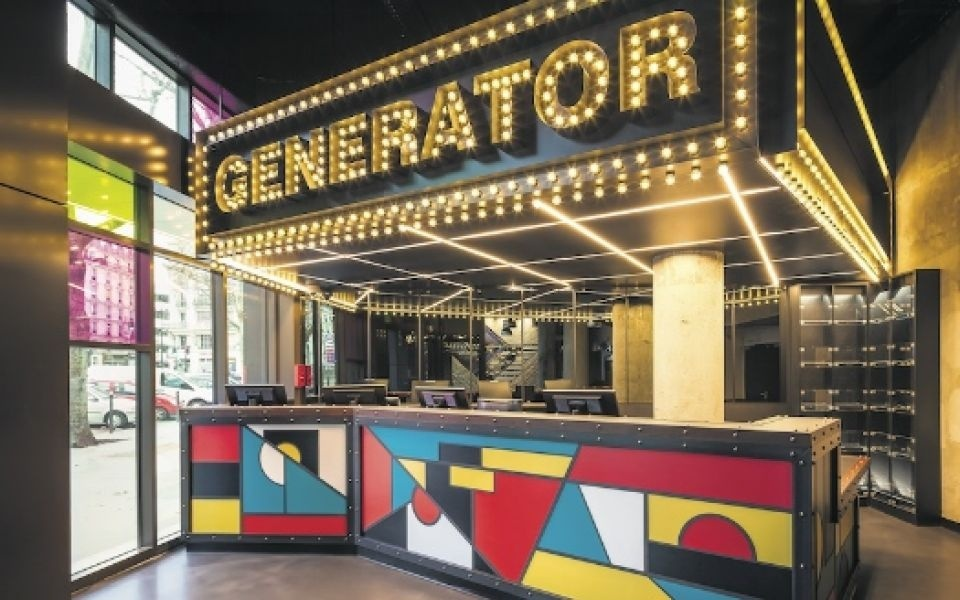text: (225, 4, 240, 220), (241, 4, 256, 220), (257, 4, 272, 220), (273, 4, 288, 220), (289, 4, 304, 220), (305, 4, 320, 220), (321, 4, 336, 220), (337, 4, 352, 220), (353, 4, 368, 220), (369, 4, 384, 220), (385, 4, 400, 220), (401, 4, 416, 220), (417, 4, 432, 220), (433, 4, 448, 220), (449, 4, 464, 220), (465, 4, 480, 220), (481, 4, 496, 220), (497, 4, 512, 220), (513, 4, 528, 220), (529, 4, 544, 220), (545, 4, 560, 220), (561, 4, 576, 220), (577, 4, 592, 220), (593, 4, 608, 220), (609, 4, 624, 220), (625, 4, 640, 220), (641, 4, 656, 220), (657, 4, 672, 220), (673, 4, 688, 220), (212, 4, 224, 220), (689, 4, 700, 220)
